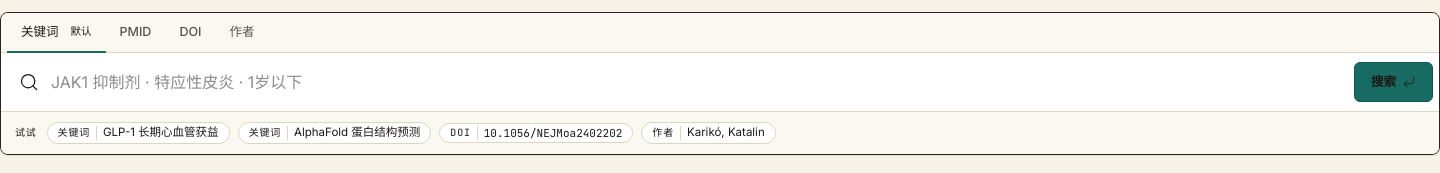
it: Composer › 点击试试 chip 后填入对应 mode + text
Click the button "关键词 AlphaFold 蛋白结构预测": (334, 133) [238,122,431,144]
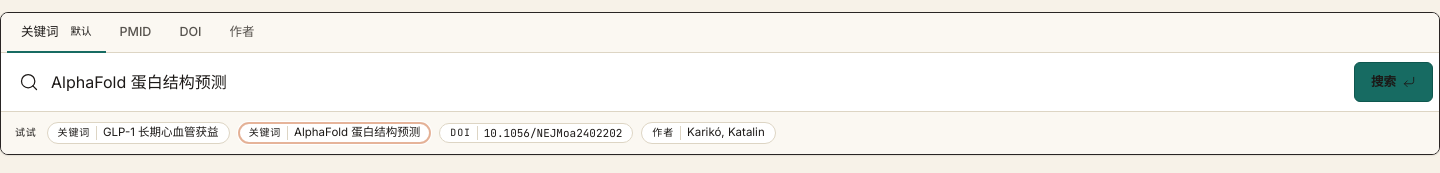
Result: the field holds "AlphaFold 蛋白结构预测" at [51,59,1342,105]
